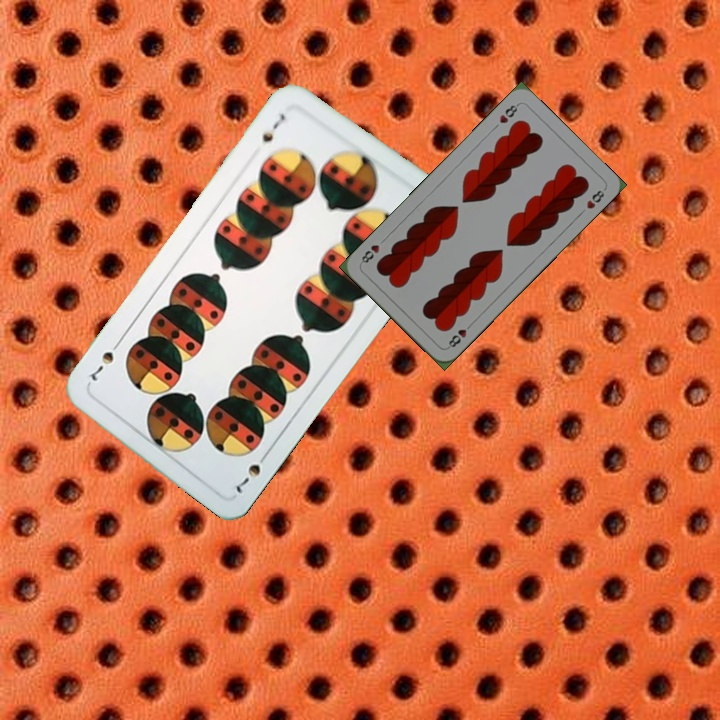H8: (443, 319, 475, 351), (495, 99, 521, 126)
S7: (231, 447, 272, 496), (258, 109, 288, 145)
